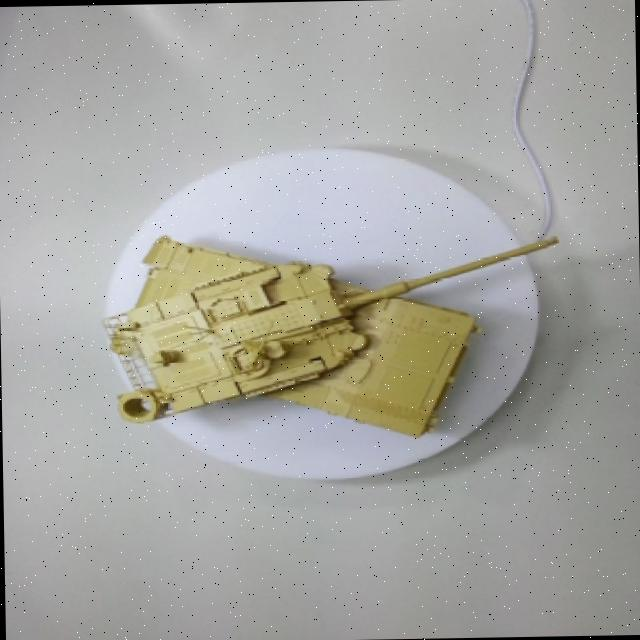korea tank: (70, 171, 574, 483)
